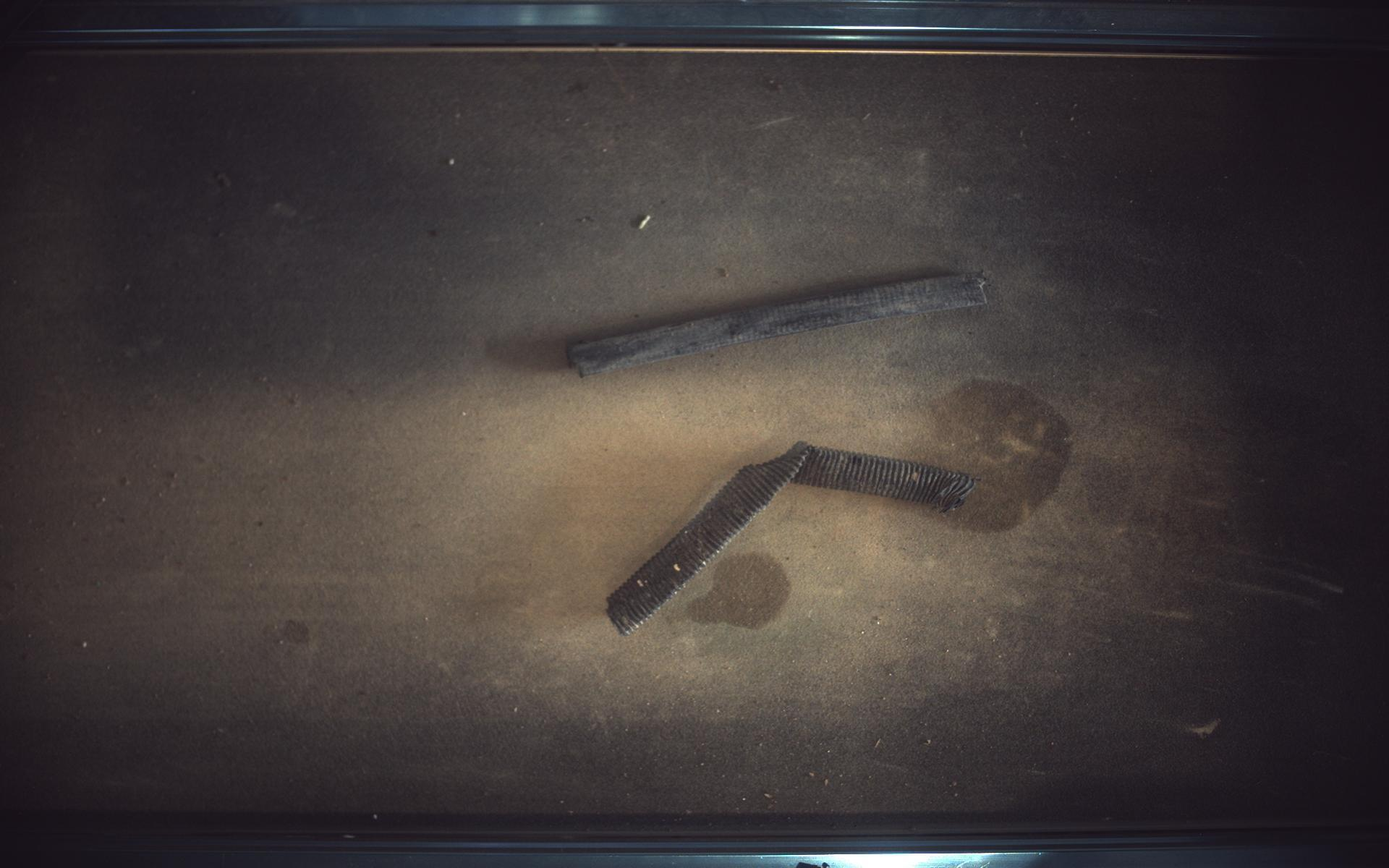pipes: (608, 442, 978, 636), (569, 272, 989, 375)
